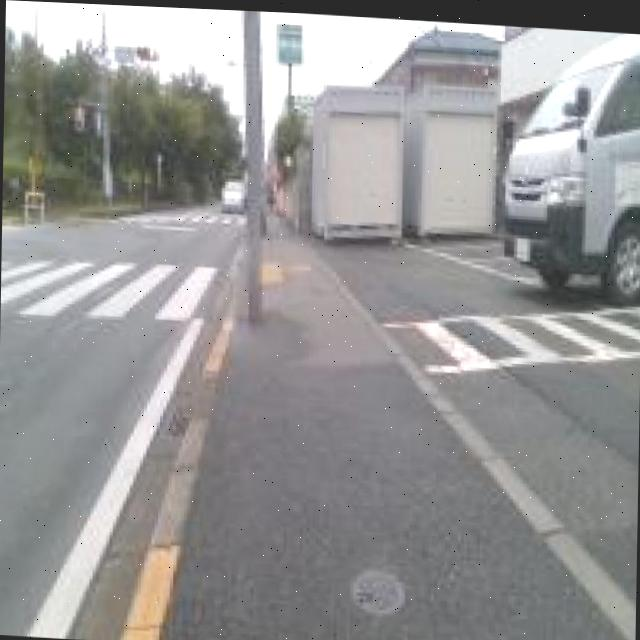Automobile: (503, 27, 640, 299), (222, 179, 243, 210)
Obstacle: (298, 81, 497, 235), (243, 8, 266, 317)
Road: (0, 208, 241, 640)
Sidewalk: (166, 228, 631, 640)
